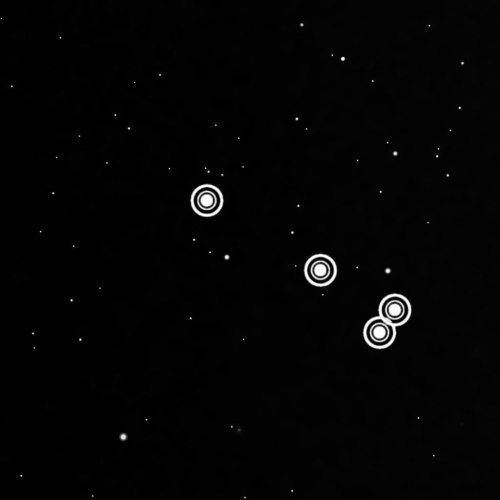sagitta: (181, 176, 419, 357)
